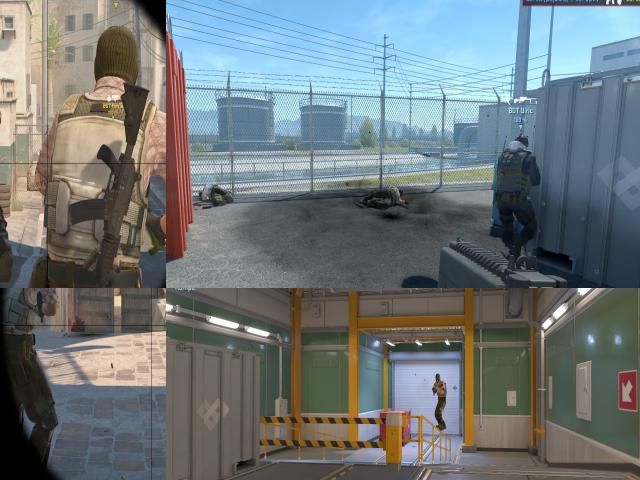CT: (497, 128, 537, 260)
CT-Head: (506, 133, 530, 151)
Dead: (358, 181, 412, 211), (195, 179, 236, 210)
T: (50, 26, 165, 288), (5, 288, 50, 451), (432, 373, 447, 428)
T-Head: (92, 28, 140, 89), (436, 374, 440, 383)
